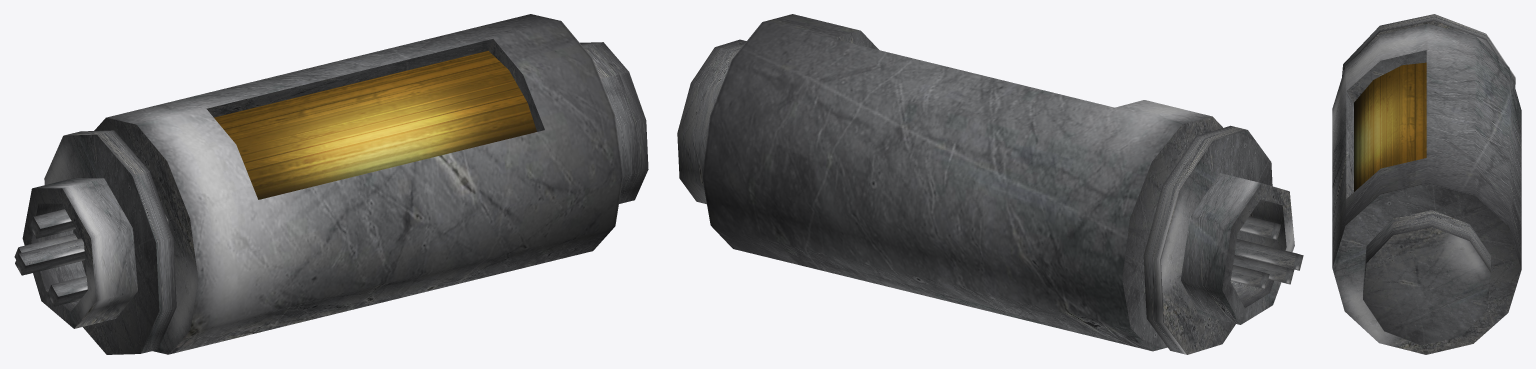
Rendered from static.glb.
3 views of the same model, side by side, from view 1: azimuth 30°, elevation 25°; view 2: azimuth 150°, elevation 25°; view 3: azimuth 270°, elevation 25° (orthographic). The views are drawn at different scales.
Parts seen in each view (by area): view 1: Cylinder_2, Plane, Cylinder, Tube, Cylinder_1, Cube_2, Cube, Cube_2_2, Cube_3; view 2: Cylinder_2, Cylinder, Tube, Cylinder_1, Cube, Cube_3, Cube_1, Cube_2_2; view 3: Cylinder_2, Cylinder_1, Plane, Cube_2, Cylinder.
Part boxes in pixels (box(x1,y1,x2,y2)): Cylinder_2: box(94, 14, 623, 354); Plane: box(214, 50, 536, 199); Cylinder: box(44, 130, 176, 354); Tube: box(22, 178, 168, 328); Cylinder_1: box(580, 42, 648, 203); Cube_2: box(206, 39, 544, 131); Cube: box(15, 238, 85, 275); Cube_2_2: box(29, 209, 75, 238); Cube_3: box(47, 276, 87, 306); Cylinder_2: box(702, 14, 1222, 351); Cylinder: box(1143, 125, 1272, 354); Tube: box(1154, 173, 1294, 324); Cylinder_1: box(677, 39, 746, 204); Cube: box(1234, 239, 1303, 270); Cube_3: box(1233, 255, 1294, 284); Cube_1: box(1231, 265, 1269, 289); Cube_2_2: box(1239, 216, 1280, 239); Cylinder_2: box(1332, 23, 1521, 354); Cylinder_1: box(1363, 210, 1490, 345); Plane: box(1354, 62, 1426, 191); Cube_2: box(1346, 50, 1426, 198); Cylinder: box(1342, 14, 1515, 87).
Size of the model in its own units: 1.11 by 0.4034 by 0.4034.
Materials: 2 (2 with a texture image).
